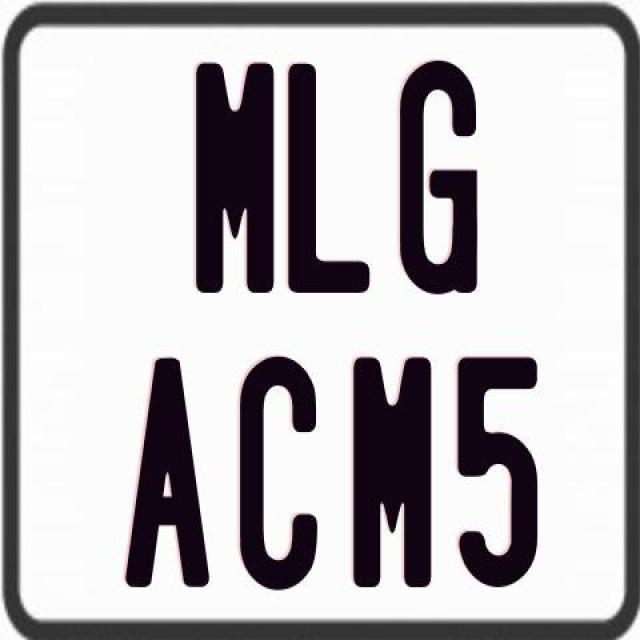5: (453, 357, 539, 592)
A: (125, 357, 218, 592)
C: (238, 352, 318, 590)
G: (401, 56, 478, 293)
L: (286, 62, 368, 292)
M: (350, 352, 434, 590), (193, 58, 272, 290)
